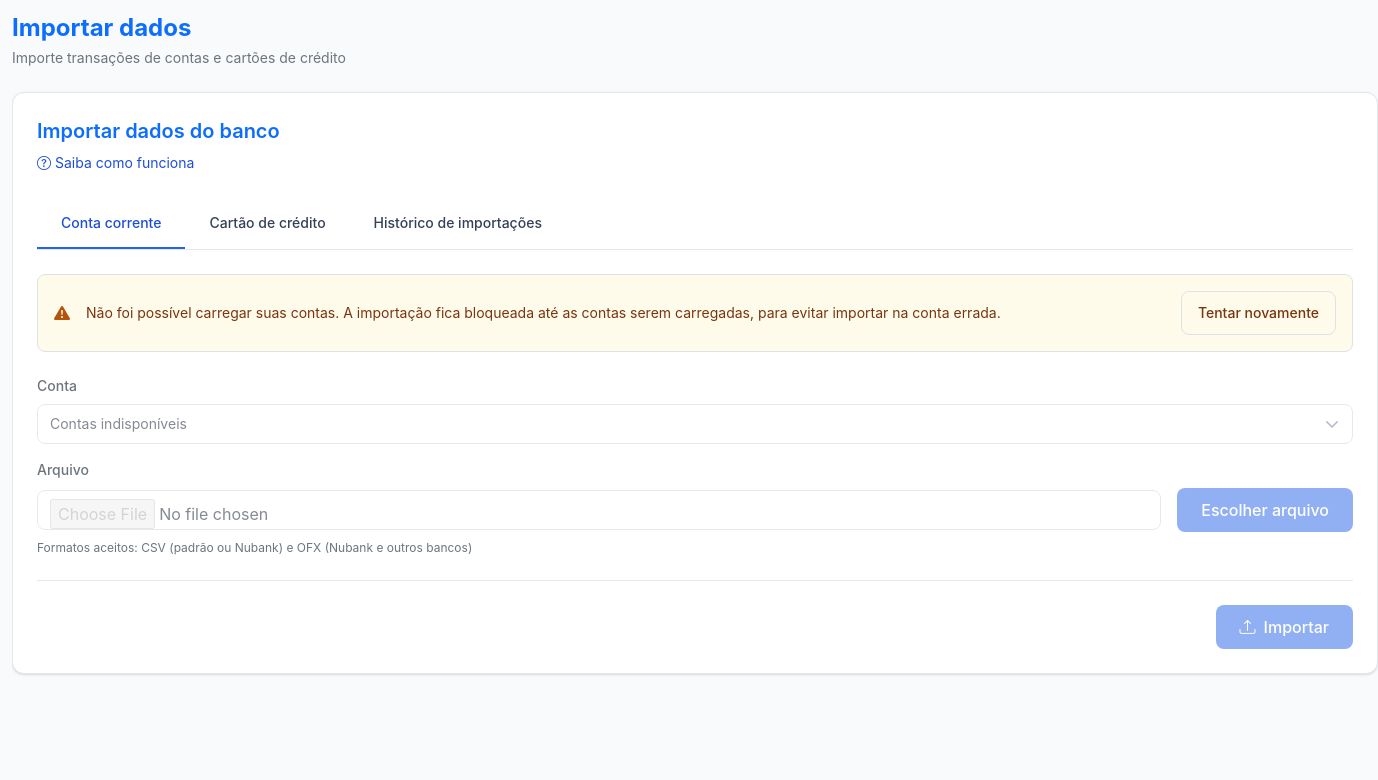
Test: Import › falha ao carregar contas mostra banner com retry e bloqueia o envio
expect the text "Não foi possível carregar suas contas" is shown: met, box [86,304,1001,321]
expect the button "Importar" is disabled: met, box [1216,605,1353,649]
Click the button "Tentar novamente".
click(1258, 313)  # box [1181,291,1336,335]
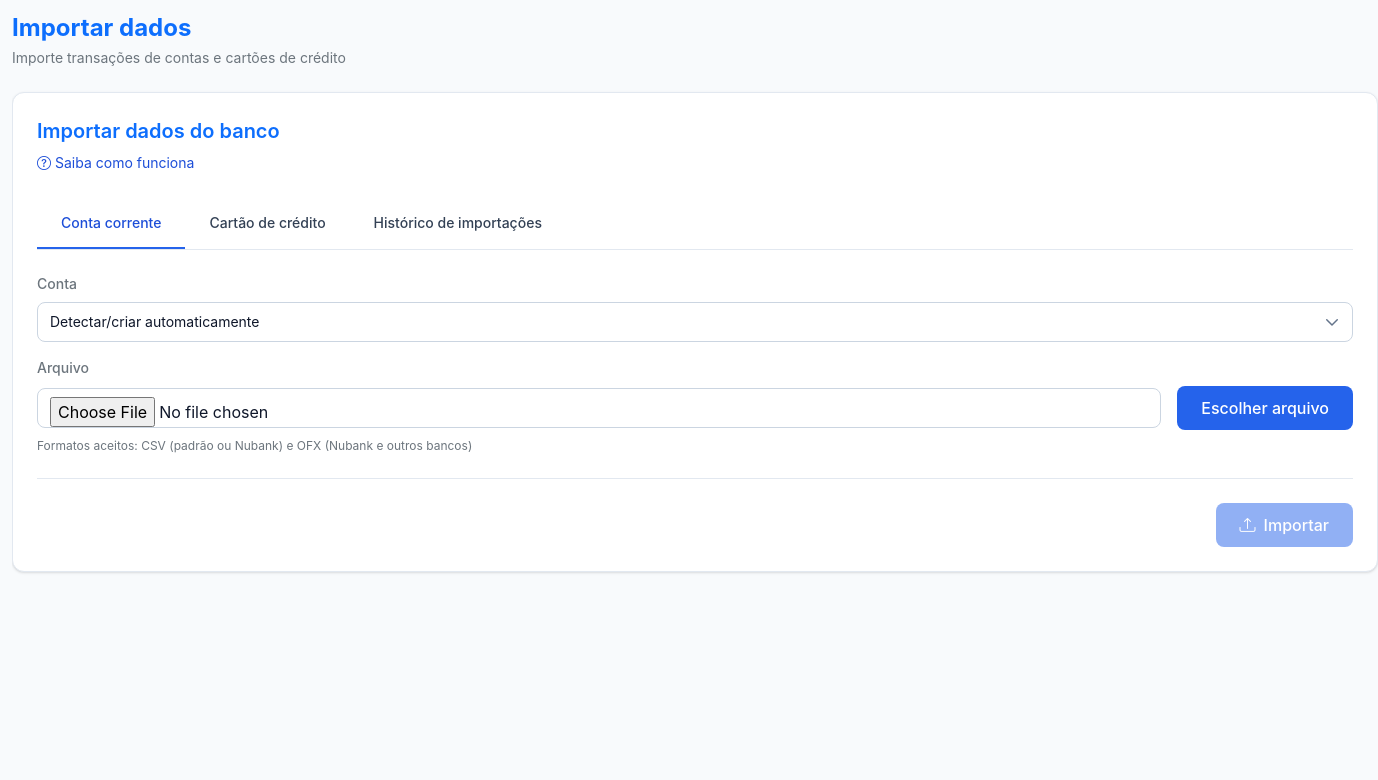
expect the message is gone: met
expect the button "Escolher arquivo" is enabled: met, box [1177,386,1353,430]
